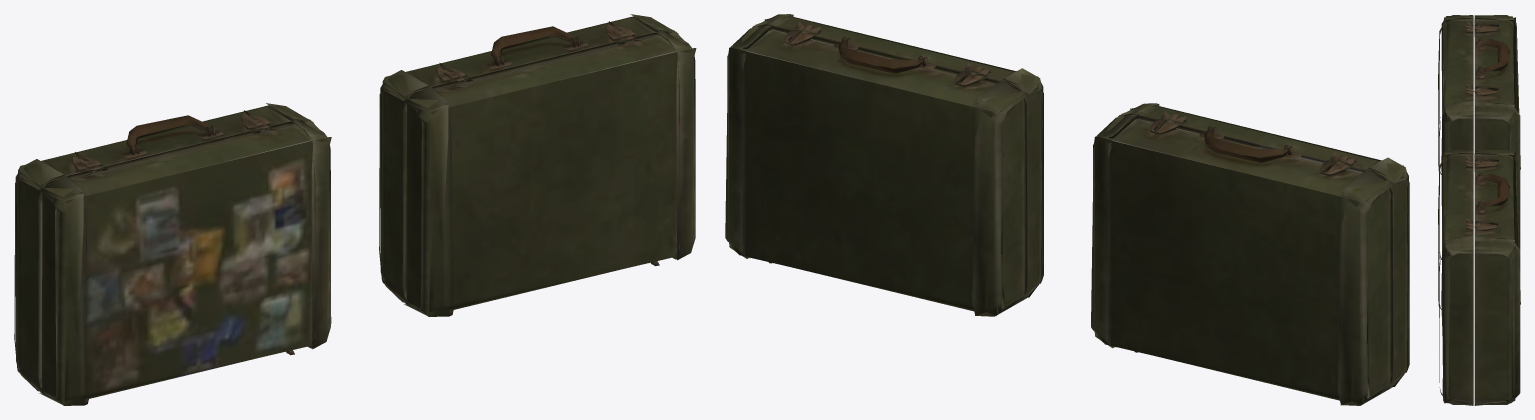
The model's file is suitcase-low.glb.
3 views of the same model, side by side, from view 1: azimuth 30°, elevation 25°; view 2: azimuth 150°, elevation 25°; view 3: azimuth 270°, elevation 25° (orthographic). The views are drawn at different scales.
Visible parts, largest first — view 1: suitcase-low; view 2: suitcase-low; view 3: suitcase-low.
Part boxes in pixels (x1,y1,x2,y2): suitcase-low: [14, 14, 696, 405]; suitcase-low: [725, 14, 1409, 405]; suitcase-low: [1438, 15, 1520, 405].
Bounding box in the file's own units: 1.61 × 0.5707 × 0.2371.
Materials: 1 (1 with a texture image).
